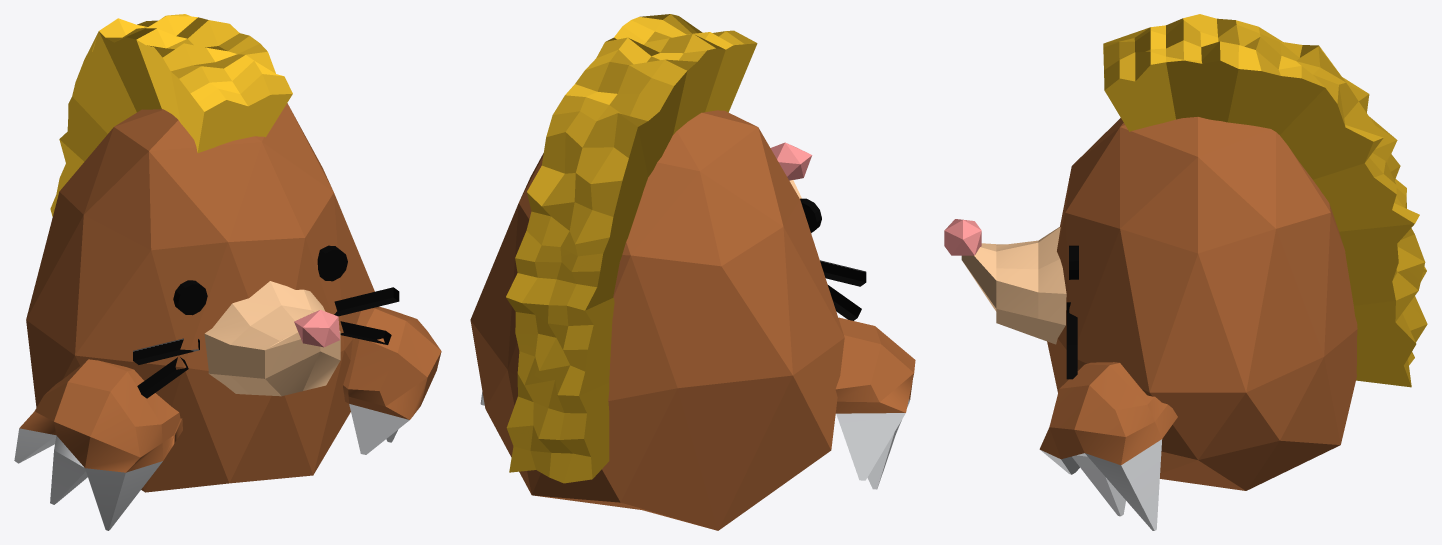
Rendered from mouse1.obj.
The picture shows the model from 3 angles, left to right: view 1: azimuth 30°, elevation 25°; view 2: azimuth 150°, elevation 25°; view 3: azimuth 270°, elevation 25°; orthographic projection. The views are drawn at different scales.
Visible parts, largest first — view 1: mouse1; view 2: mouse1; view 3: mouse1.
Boxes of the visible parts, <box> form: mouse1: <box>14,14,441,530</box>; mouse1: <box>470,14,915,530</box>; mouse1: <box>944,14,1427,530</box>.
Bounding box in the file's own units: 0.3544 × 0.3654 × 0.3718.
1 material, 1 textured.
